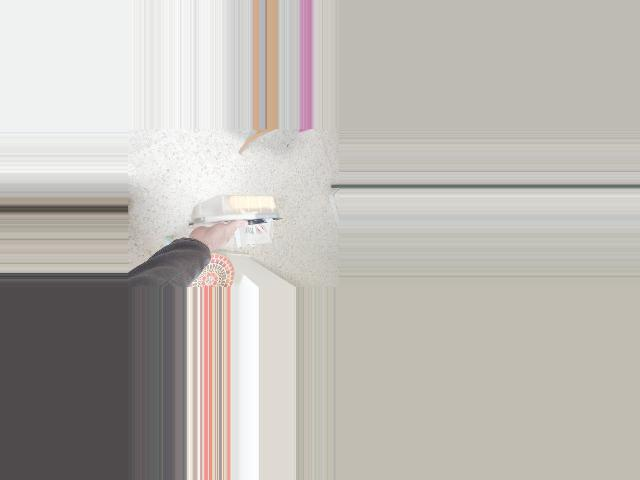cheese: (173, 171, 272, 267)
